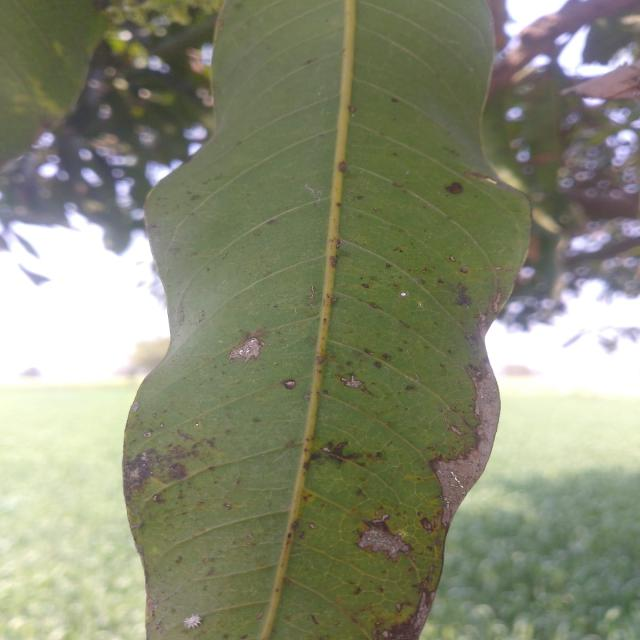Anthracnose: (320, 441, 365, 465), (441, 180, 474, 201), (283, 377, 300, 391)
Bacterial Cancer: (411, 361, 527, 531), (358, 517, 412, 558), (229, 336, 266, 364)
